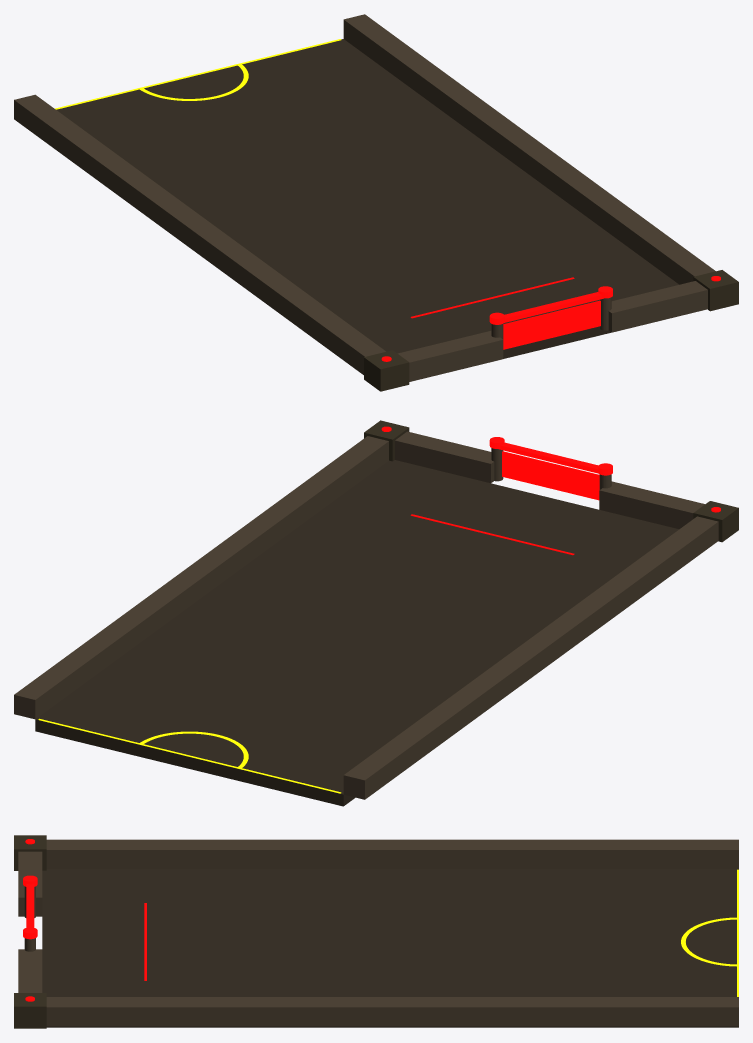
File: mesa_cyber_colosseum_half_p2.glb
The picture shows the model from 3 angles, top to bottom: view 1: azimuth 30°, elevation 25°; view 2: azimuth 150°, elevation 25°; view 3: azimuth 270°, elevation 25°; orthographic projection. The views are drawn at different scales.
Visible parts, largest first — view 1: ColosseumHalfP2_Surface, ColosseumHalfP2_RailL, ColosseumHalfP2_RailR, Cube.004, Cube.002, Cube.009, Cube.006, Cube.007, Cube.008, ColosseumHalfP2_TopEdgeLaser; view 2: ColosseumHalfP2_Surface, ColosseumHalfP2_RailL, ColosseumHalfP2_RailR, Cube.004, Cube.002, Cube.009, Cube.006, Cube.008, Cube.007, ColosseumHalfP2_TopEdgeLaser; view 3: ColosseumHalfP2_Surface, ColosseumHalfP2_RailL, ColosseumHalfP2_RailR, Cube.002, Cube.007, Cube.004, Cube.006, ColosseumHalfP2_CenterArcOuter, Cube.008.
Part boxes in pixels (left/top/right/bottom): ColosseumHalfP2_Surface: left=56, top=39, right=678, bottom=358; ColosseumHalfP2_RailL: left=14, top=94, right=385, bottom=374; ColosseumHalfP2_RailR: left=343, top=14, right=715, bottom=284; Cube.004: left=608, top=281, right=707, bottom=332; Cube.002: left=397, top=331, right=503, bottom=381; Cube.009: left=503, top=300, right=600, bottom=349; Cube.006: left=364, top=350, right=409, bottom=391; Cube.007: left=693, top=270, right=738, bottom=311; Cube.008: left=504, top=292, right=603, bottom=322; ColosseumHalfP2_TopEdgeLaser: left=55, top=39, right=341, bottom=109; ColosseumHalfP2_Surface: left=35, top=460, right=678, bottom=806; ColosseumHalfP2_RailL: left=343, top=516, right=718, bottom=799; ColosseumHalfP2_RailR: left=14, top=436, right=388, bottom=719; Cube.004: left=395, top=431, right=494, bottom=483; Cube.002: left=599, top=481, right=704, bottom=529; Cube.009: left=502, top=451, right=599, bottom=500; Cube.006: left=693, top=501, right=738, bottom=542; Cube.008: left=499, top=442, right=598, bottom=473; Cube.007: left=364, top=420, right=409, bottom=461; ColosseumHalfP2_TopEdgeLaser: left=38, top=718, right=341, bottom=793; ColosseumHalfP2_Surface: left=42, top=869, right=738, bottom=1027; ColosseumHalfP2_RailL: left=46, top=839, right=738, bottom=868; ColosseumHalfP2_RailR: left=46, top=997, right=738, bottom=1026; Cube.002: left=18, top=851, right=42, bottom=916; Cube.007: left=14, top=993, right=46, bottom=1028; Cube.004: left=18, top=949, right=42, bottom=992; Cube.006: left=14, top=835, right=46, bottom=870; ColosseumHalfP2_CenterArcOuter: left=681, top=917, right=736, bottom=966; Cube.008: left=26, top=884, right=34, bottom=927.
Size of the model in its own units: 1.26 by 0.17 by 2.25.
